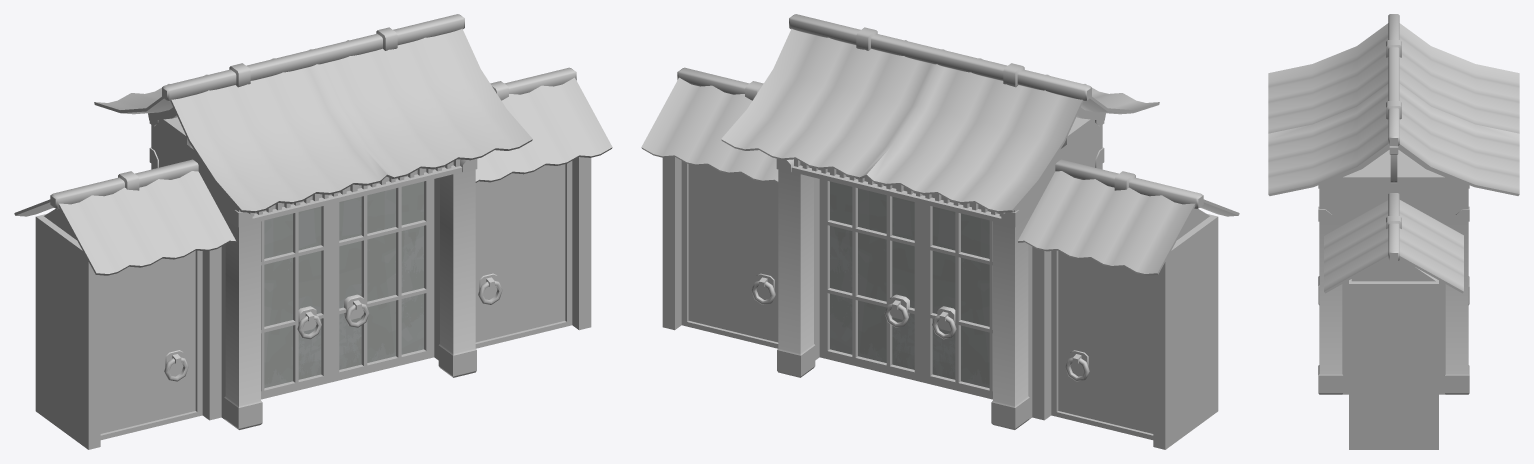
The model's file is Japan.Temple.Gate_01.fbx.
The picture shows the model from 3 angles, left to right: view 1: azimuth 30°, elevation 25°; view 2: azimuth 150°, elevation 25°; view 3: azimuth 270°, elevation 25°; orthographic projection. The views are drawn at different scales.
Visible parts, largest first — view 1: Japan.Temple.Gate_01; view 2: Japan.Temple.Gate_01; view 3: Japan.Temple.Gate_01.
Part boxes in pixels (x1=…): Japan.Temple.Gate_01: x1=14, y1=14, x2=612, y2=449; Japan.Temple.Gate_01: x1=641, y1=14, x2=1239, y2=449; Japan.Temple.Gate_01: x1=1268, y1=14, x2=1519, y2=449.
Size of the model in its own units: 1140 by 669 by 560.
